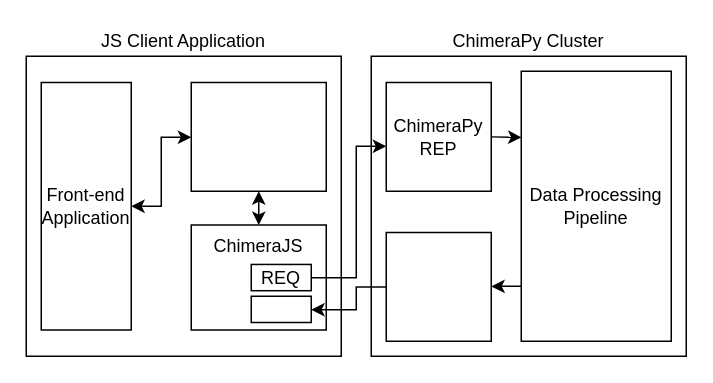
Some shapes in this 713 by 383 pixel diagram are drawn without their labels. Each missing label, with the centre of its shape:
ChimeraPy PUB: the point at 438,286
Mitt: Event Bus: the point at 258,136
SUB: the point at 280,308
